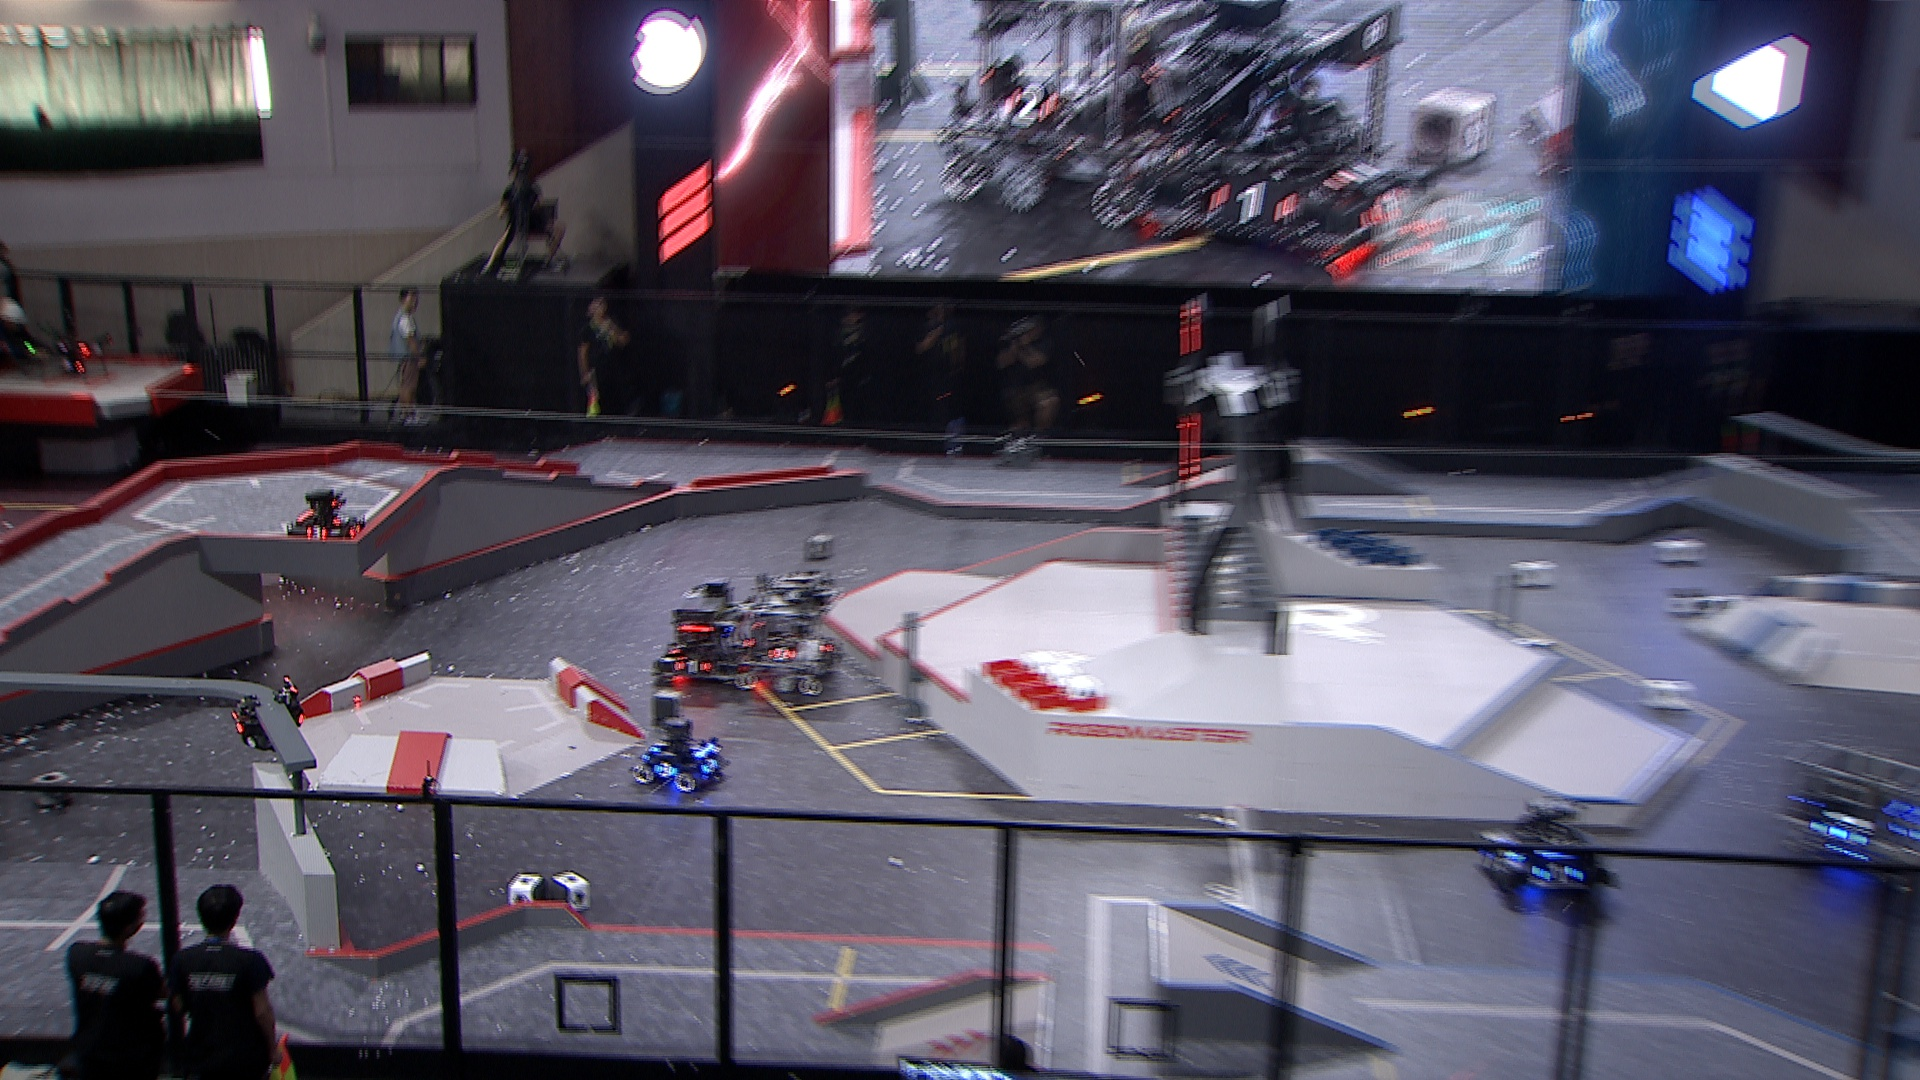armor: (1528, 862, 1586, 885), (671, 655, 711, 676), (698, 756, 723, 778), (225, 709, 245, 737), (651, 760, 679, 779), (327, 509, 353, 527), (306, 524, 332, 541), (766, 646, 795, 661), (669, 636, 688, 657), (646, 735, 666, 754), (348, 522, 367, 541)
car: (1784, 728, 1920, 897), (1468, 790, 1619, 902), (731, 568, 845, 694), (651, 588, 757, 688), (629, 717, 728, 794), (285, 488, 371, 549)
watcher: (225, 673, 310, 756)
